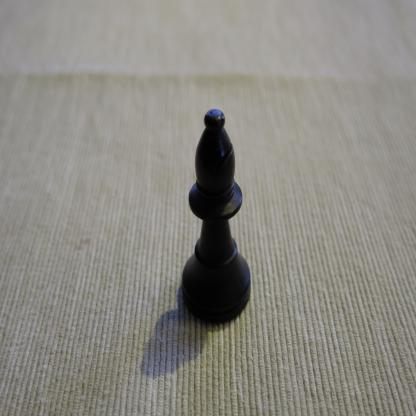black-knight: (181, 108, 251, 328)
